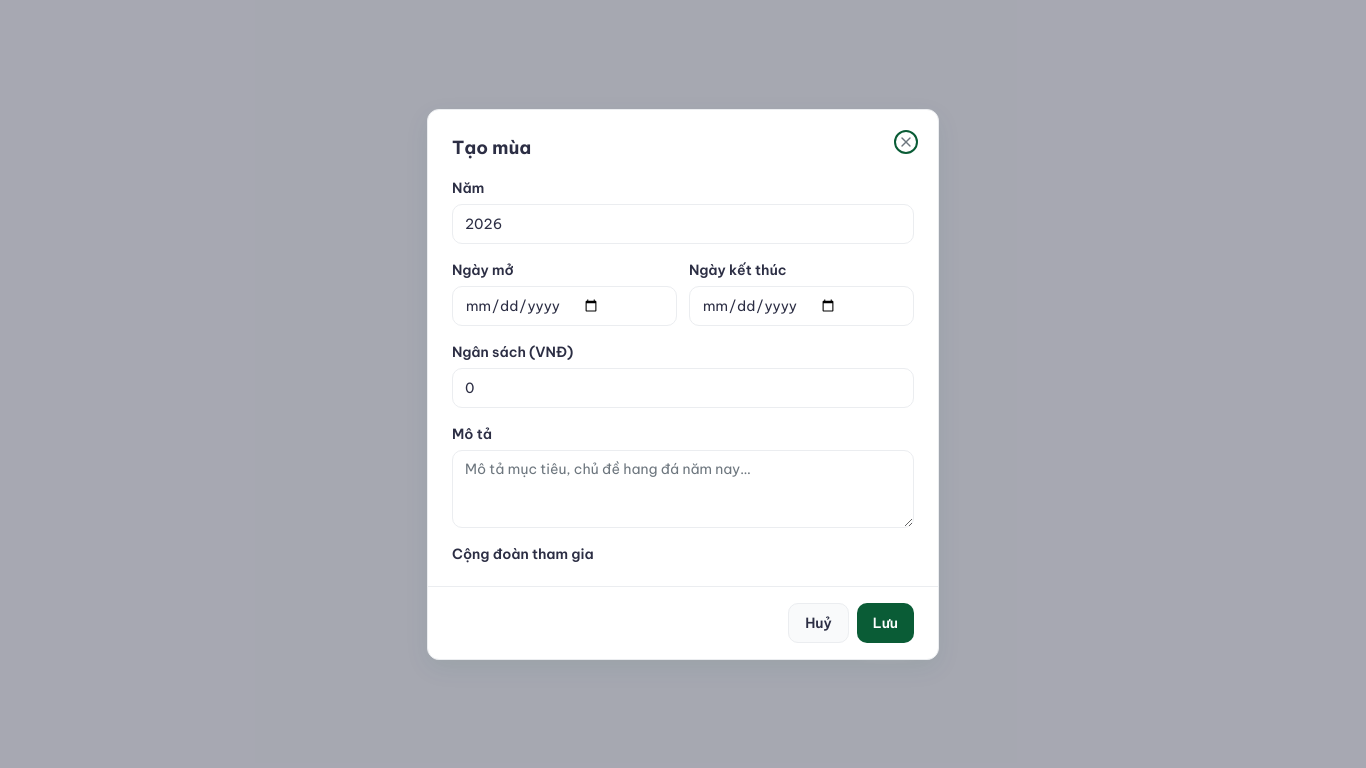
Test: SeasonFormDialog validation › end sau start và đã chọn cộng đoàn → submit thành công
This screenshot has width=1366, height=768.
Type "2026-09-15" into the date field labelled "Ngày mở" at [564, 306], box x1=452 y1=286 x2=677 y2=326
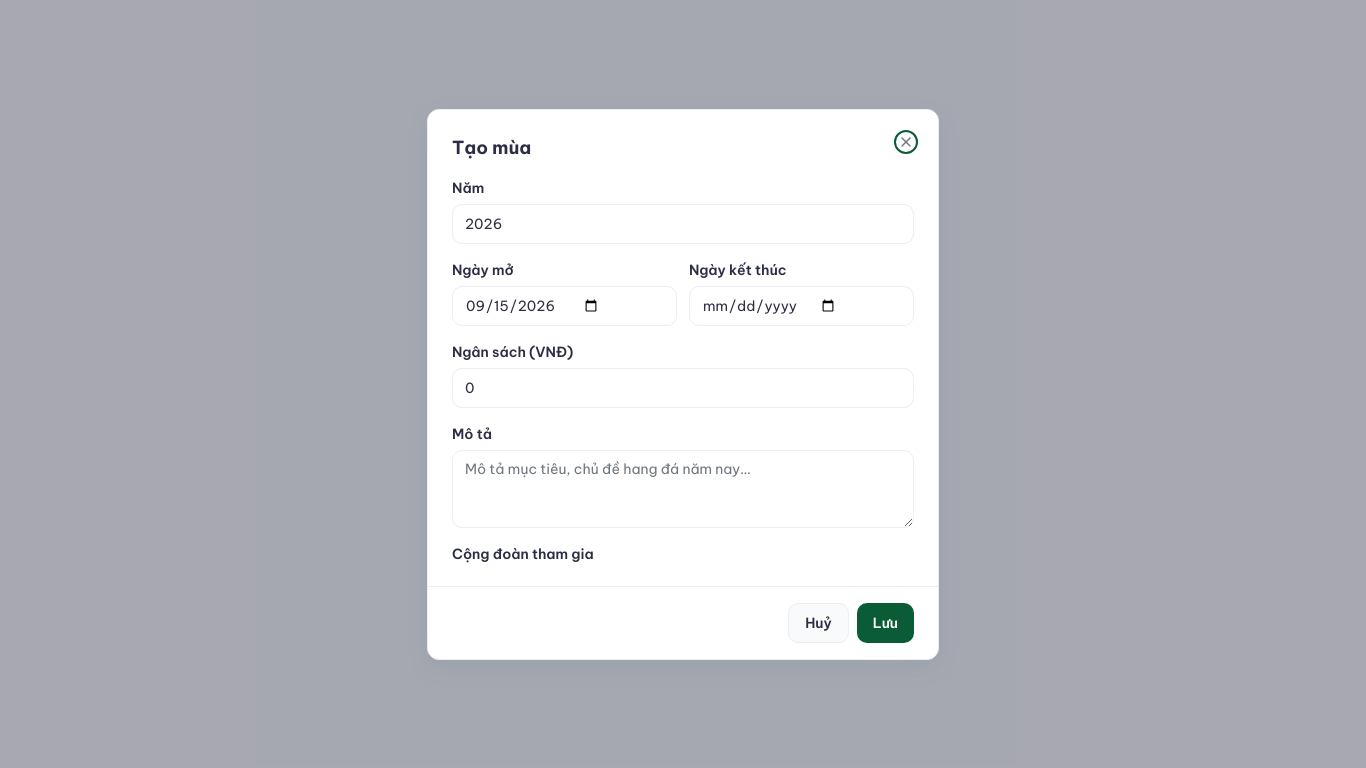
Type "2026-12-24" into the date field labelled "Ngày kết thúc" at [802, 306], box x1=689 y1=286 x2=914 y2=326
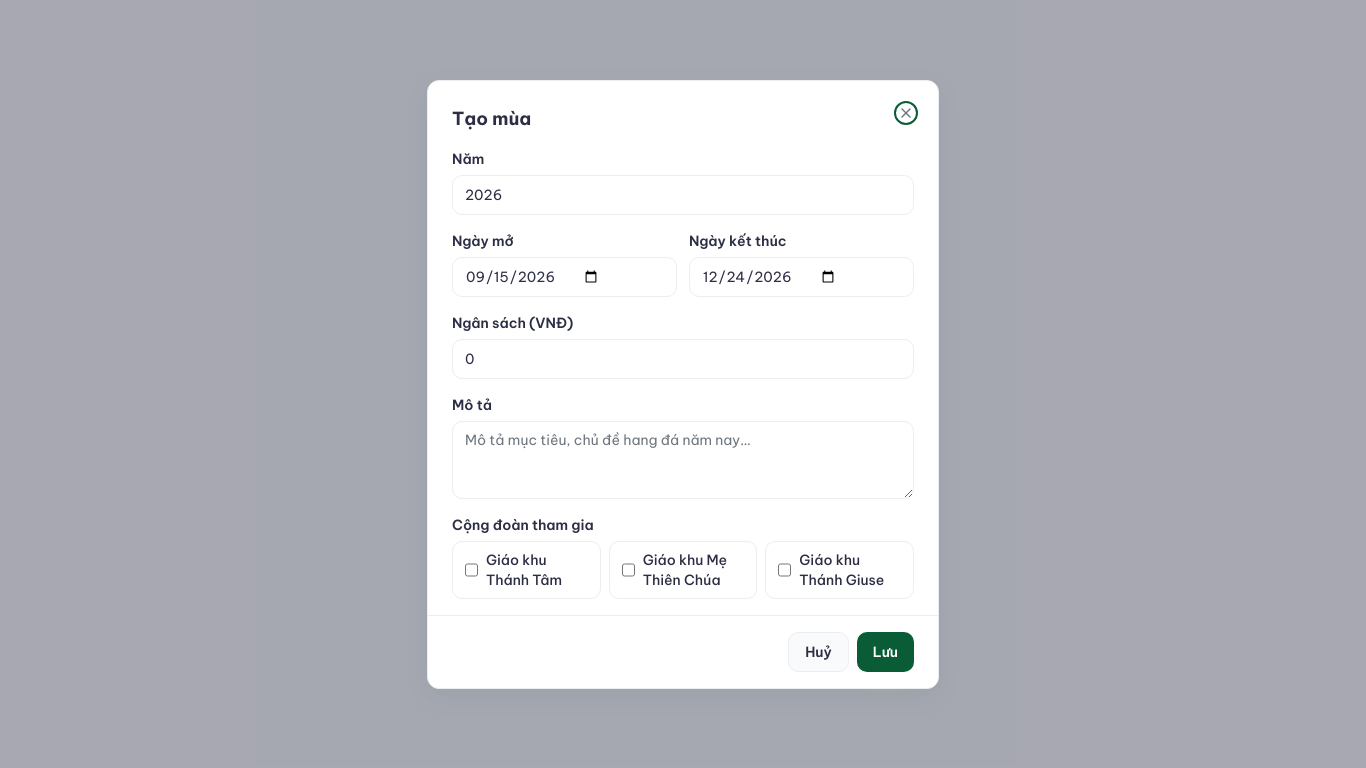
Click the checkbox labelled "Giáo khu Thánh Tâm" at [472, 570], box x1=465 y1=562 x2=478 y2=578
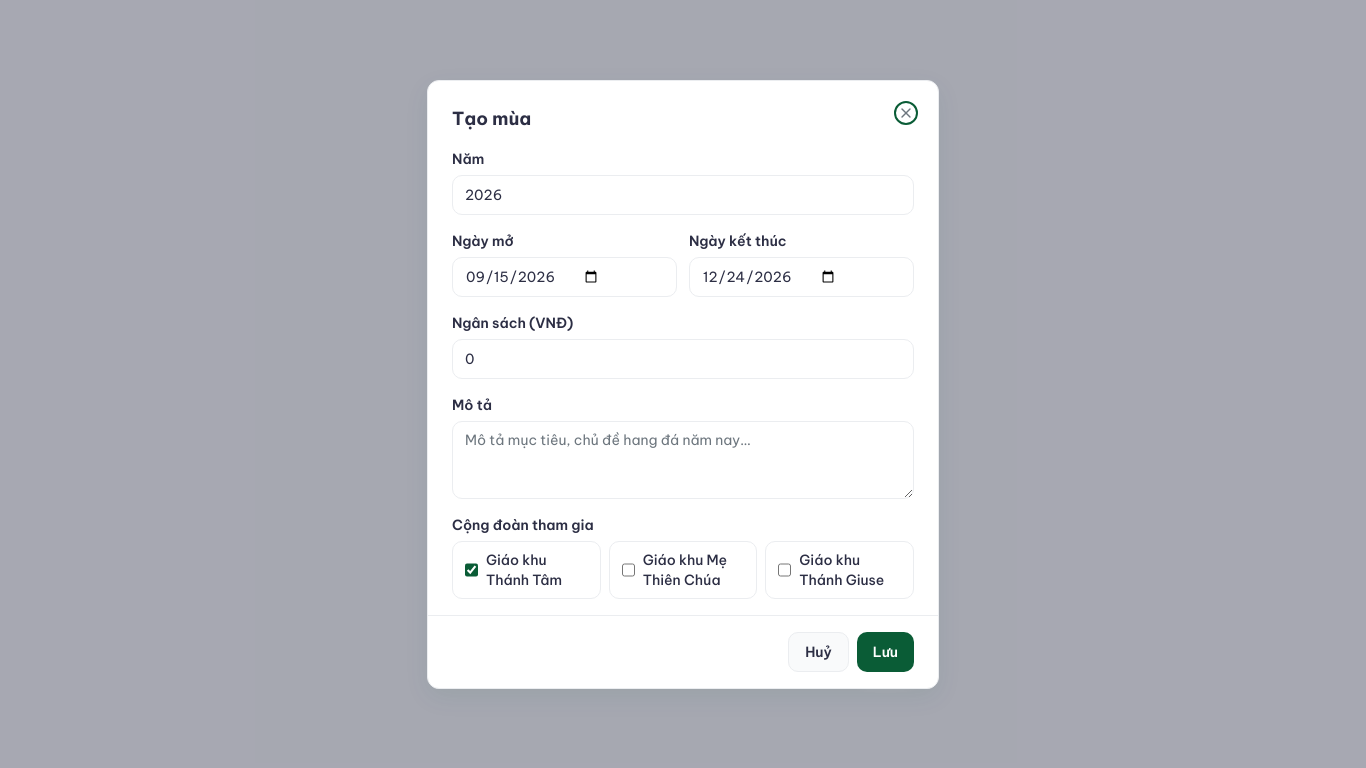
Submit the form with id "season-form", box x1=452 y1=148 x2=914 y2=598
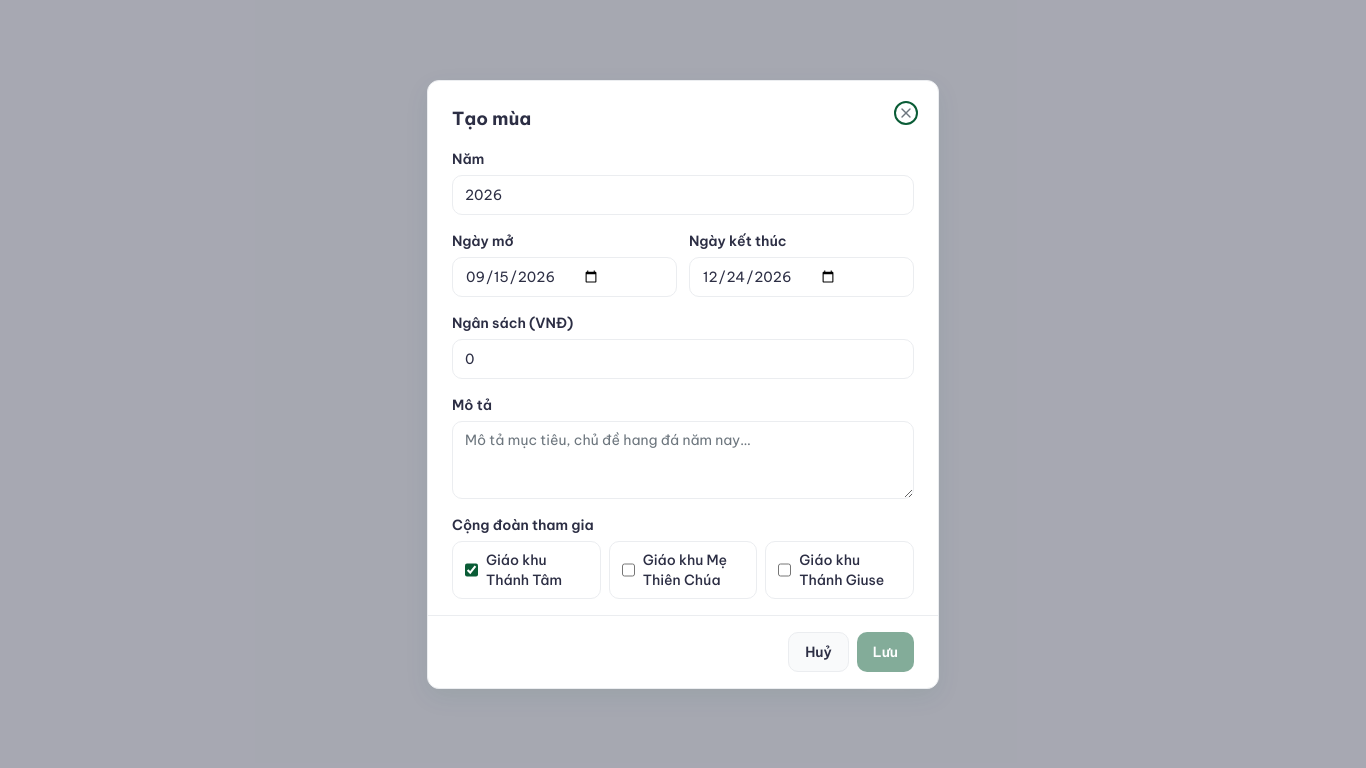
Expected: the button "Lưu" is disabled, x1=857 y1=632 x2=914 y2=672
